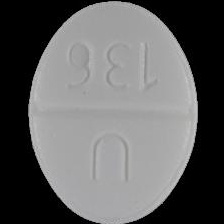61919-267: (0, 0, 224, 224)
